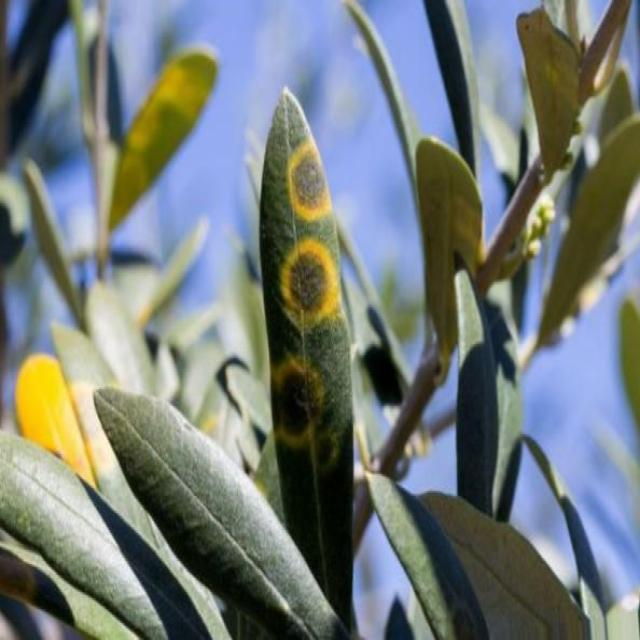Peacock Eye: (260, 88, 352, 618)
